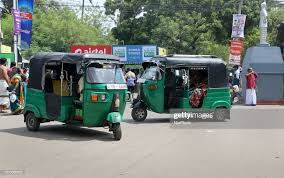tuk tuk: (24, 51, 131, 143), (129, 54, 232, 122)
